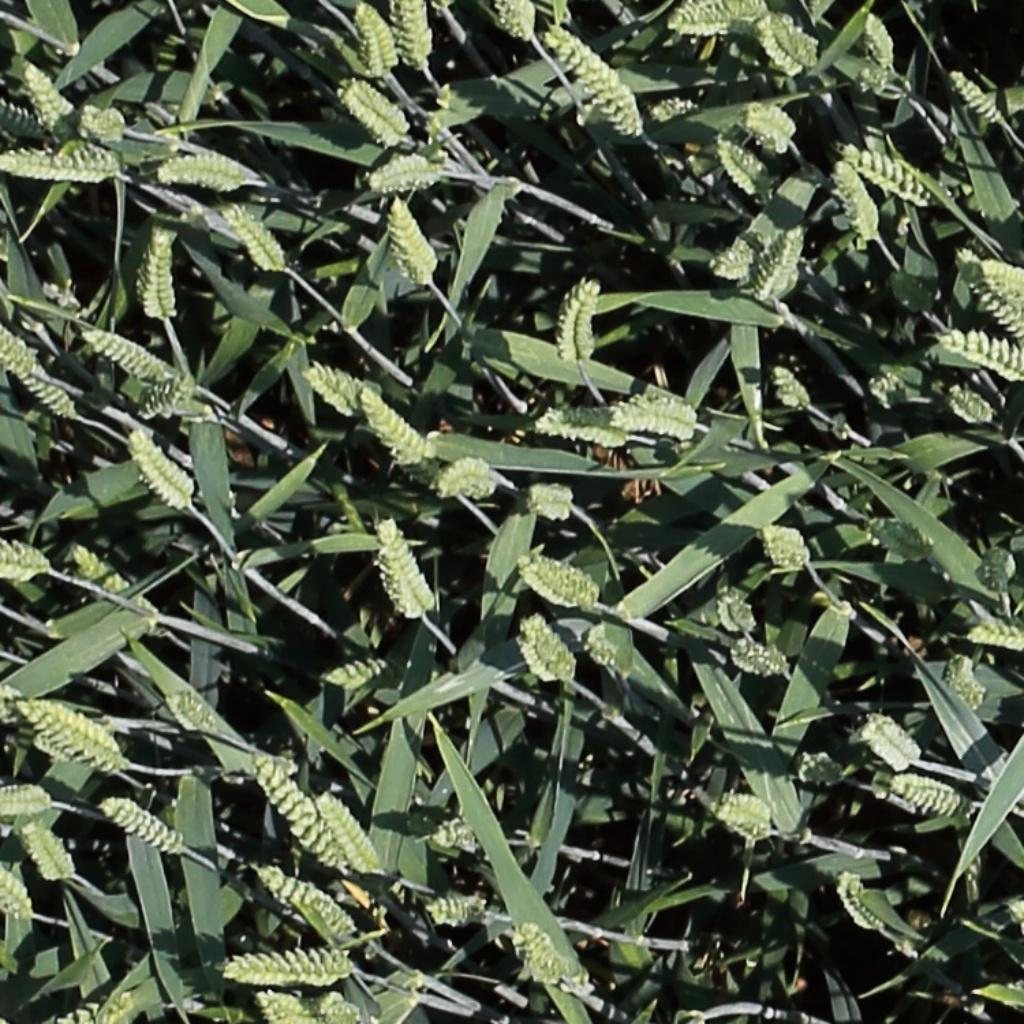0-0: (247, 749, 345, 872), (544, 23, 647, 136), (17, 701, 134, 772), (65, 539, 159, 621), (942, 246, 1021, 336), (376, 514, 438, 622), (258, 868, 354, 935), (314, 790, 383, 879), (125, 427, 197, 512), (357, 386, 434, 464), (547, 270, 603, 370), (842, 143, 936, 202), (530, 402, 639, 451), (221, 197, 289, 274), (831, 150, 884, 244), (223, 943, 346, 983), (101, 798, 184, 857), (387, 192, 439, 286), (611, 392, 704, 444), (756, 218, 811, 303), (81, 326, 169, 379), (424, 808, 498, 871), (427, 449, 508, 505), (520, 613, 580, 686), (516, 921, 582, 985), (0, 151, 123, 185), (19, 817, 76, 888), (9, 363, 79, 420), (946, 65, 1008, 128), (756, 10, 811, 80), (342, 79, 408, 137), (939, 330, 1024, 375), (17, 57, 70, 129), (711, 781, 778, 837), (353, 0, 398, 83), (715, 132, 772, 197), (157, 144, 247, 185), (836, 869, 890, 936), (301, 364, 373, 414), (138, 223, 176, 316), (770, 8, 824, 72), (890, 778, 972, 819), (367, 145, 447, 187), (163, 690, 230, 740), (521, 561, 592, 606), (862, 716, 920, 771), (971, 541, 1022, 602), (862, 356, 911, 419), (647, 0, 739, 33), (977, 249, 1024, 312), (861, 5, 902, 75), (947, 651, 988, 719), (768, 359, 816, 416), (869, 520, 936, 558), (139, 375, 199, 417), (0, 305, 38, 371), (527, 479, 583, 523), (0, 842, 31, 921), (400, 0, 432, 76), (718, 584, 760, 640), (731, 641, 790, 678), (0, 92, 49, 136), (425, 891, 493, 922), (946, 383, 996, 424), (745, 105, 797, 144), (761, 527, 813, 566), (0, 533, 47, 576), (253, 990, 311, 1024), (323, 660, 389, 688), (495, 0, 536, 45), (325, 992, 379, 1024), (0, 780, 52, 812), (79, 103, 125, 137), (588, 633, 623, 675), (722, 0, 776, 27), (797, 759, 846, 785), (99, 989, 137, 1022), (968, 628, 1024, 648), (649, 98, 703, 117), (0, 678, 20, 723)
